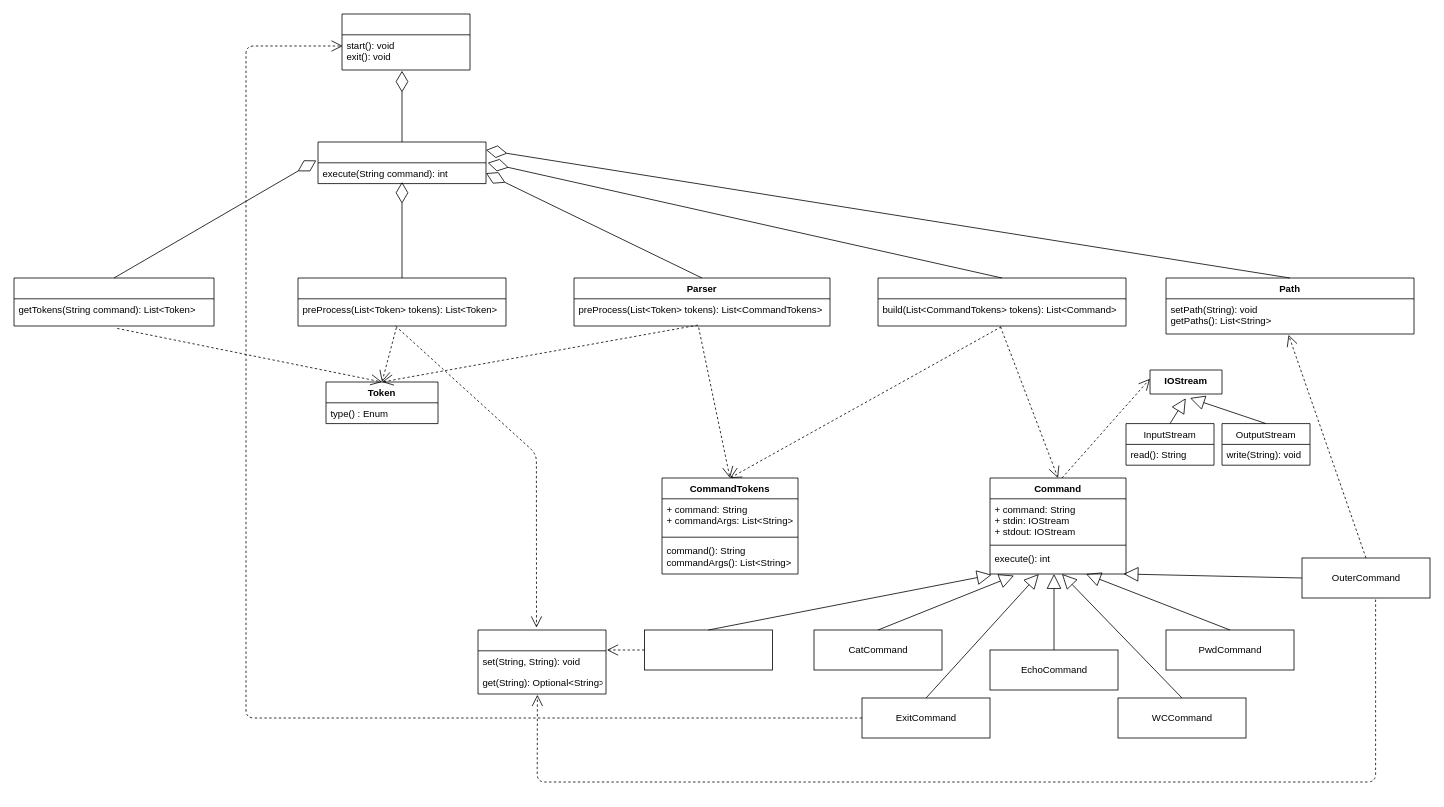
Image size: 1444x807. Some labels were removed from this diagram. The box of each missing label's shape, as (x1, y1, x2, y2) in pixels:
CLI: (341, 13, 470, 70)
CommandBuilder: (877, 277, 1126, 326)
Environment: (477, 629, 606, 694)
EnvironmentCommand: (644, 629, 772, 670)
Executor: (317, 141, 486, 184)
Lexer: (13, 277, 214, 326)
PreProcessor: (297, 277, 506, 326)
